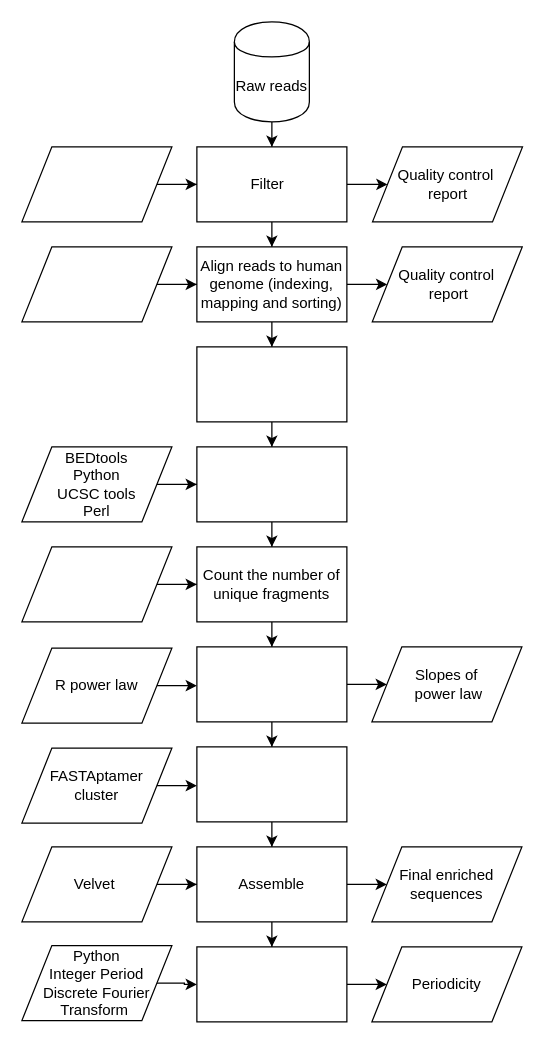
Image size: 545x1044. Some labels were removed from this diagram. The centre of each missing label's shape, as x and y in pixels:
"Bowtie (local) SAMtools R" goes at (x=96, y=284).
"Cluster" goes at (x=271, y=784).
"Cut off threshold" goes at (x=271, y=684).
"Extract fragment sequences" goes at (x=271, y=484).
"FASTAptamer count" goes at (x=96, y=584).
"FastQC Cutadapt" goes at (x=96, y=184).
"Filter by mapping quality and fragment length" goes at (x=271, y=384).
"Identify periodic signals" goes at (x=271, y=984).
